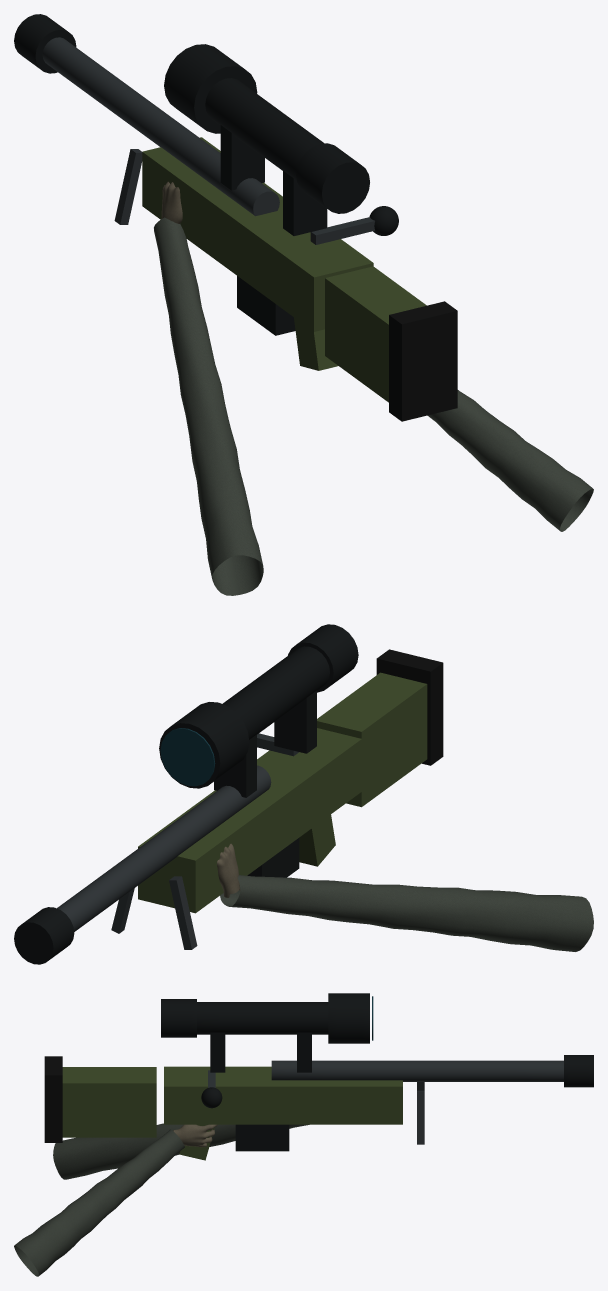
Rendered from awp.glb.
3 views of the same model, one above another, from view 1: azimuth 30°, elevation 25°; view 2: azimuth 150°, elevation 25°; view 3: azimuth 270°, elevation 25° (orthographic). The views are drawn at different scales.
Parts seen in each view (by area): view 1: ReceiverMesh, Sleeve L, Sleeve R, MagazineMesh, BoltMesh; view 2: ReceiverMesh, Sleeve L, MagazineMesh, Anatomical glove L; view 3: ReceiverMesh, Sleeve R, Sleeve L, MagazineMesh, Anatomical glove R, BoltMesh.
Boxes of the visible parts, left/top/right/bottom form: ReceiverMesh: left=14, top=14, right=457, bottom=421; Sleeve L: left=154, top=217, right=263, bottom=595; Sleeve R: left=427, top=390, right=593, bottom=531; MagazineMesh: left=237, top=276, right=295, bottom=335; BoltMesh: left=310, top=206, right=398, bottom=244; ReceiverMesh: left=14, top=624, right=443, bottom=964; Sleeve L: left=220, top=875, right=593, bottom=951; MagazineMesh: left=247, top=838, right=299, bottom=877; Anatomical glove L: left=217, top=843, right=240, bottom=897; ReceiverMesh: left=44, top=993, right=593, bottom=1160; Sleeve R: left=14, top=1129, right=184, bottom=1276; Sleeve L: left=53, top=1123, right=309, bottom=1179; MagazineMesh: left=235, top=1124, right=289, bottom=1151; Anatomical glove R: left=173, top=1124, right=217, bottom=1147; BoltMesh: left=201, top=1070, right=222, bottom=1108.
Size of the model in its own units: 0.9508 by 0.8972 by 1.94.
7 materials, 2 textured.
